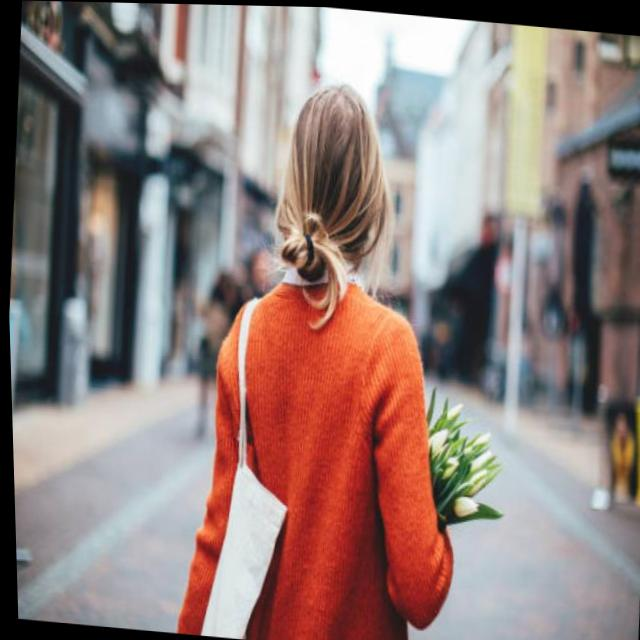no helmet: (260, 84, 403, 292)
